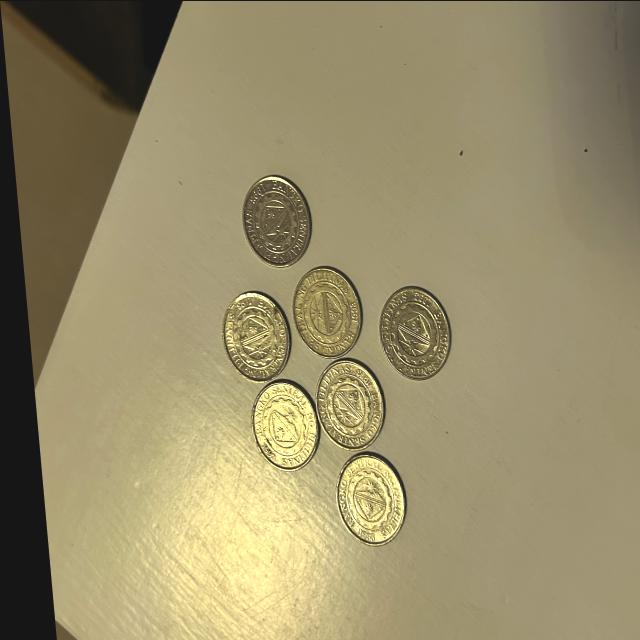1_Old_Back: (377, 295, 435, 372), (312, 364, 369, 441), (221, 301, 282, 369), (296, 274, 351, 348), (245, 188, 299, 255), (250, 394, 303, 460), (336, 467, 388, 532)
